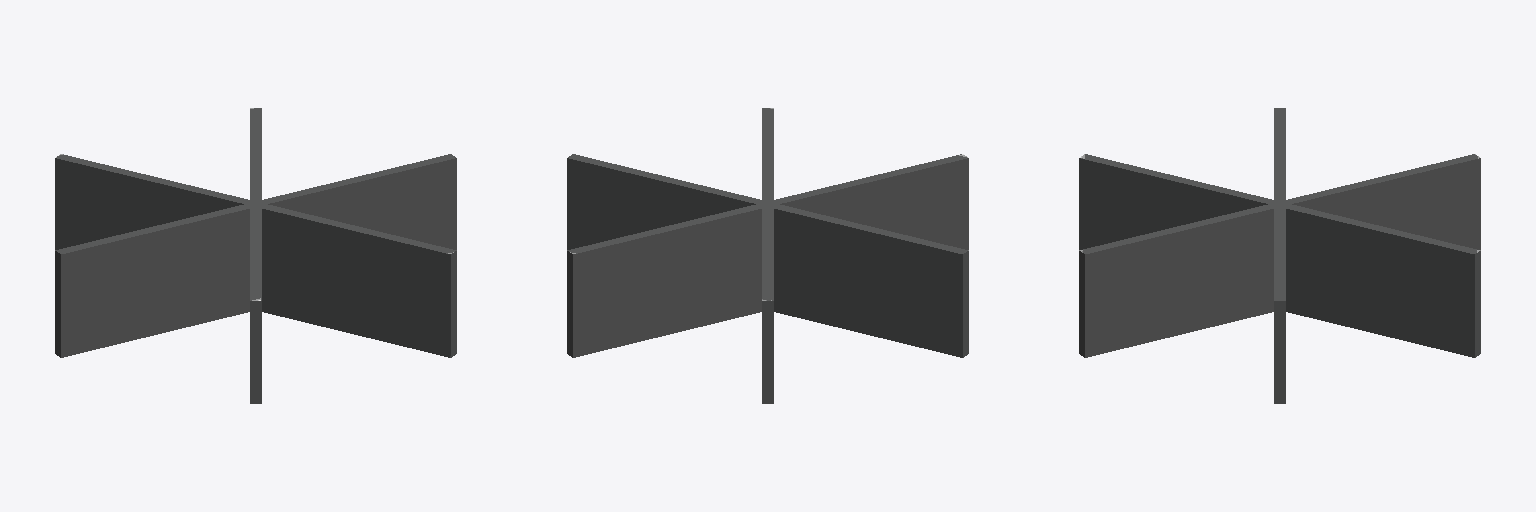
3 renders of one model, left to right at view 1: azimuth 30°, elevation 25°; view 2: azimuth 150°, elevation 25°; view 3: azimuth 270°, elevation 25°, orthographic.
Visible parts, largest first — view 1: 立方体; view 2: 立方体; view 3: 立方体.
Part boxes in pixels (left/top/right/bottom): 立方体: left=55, top=108, right=456, bottom=403; 立方体: left=567, top=108, right=968, bottom=403; 立方体: left=1079, top=108, right=1480, bottom=403.
Size of the model in its own units: 0.4 by 0.1 by 0.3514.
1 materials, 1 textured.